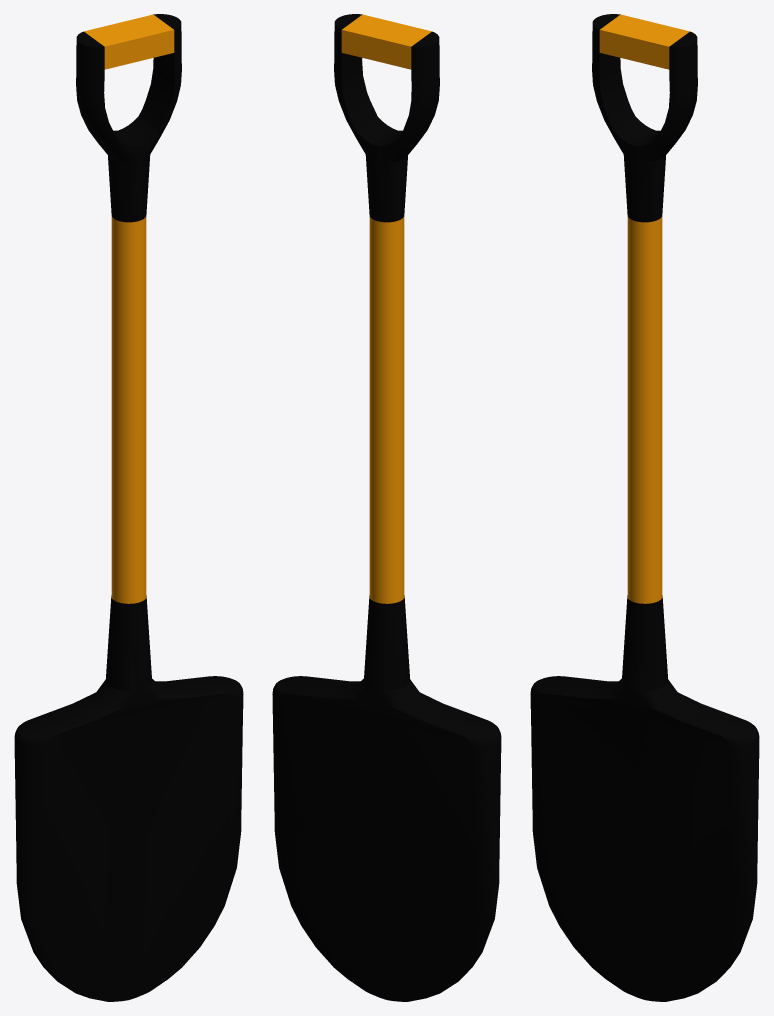
Rendered from shovel.obj.
The picture shows the model from 3 angles, left to right: view 1: azimuth 30°, elevation 25°; view 2: azimuth 150°, elevation 25°; view 3: azimuth 330°, elevation 25°; orthographic projection.
Visible parts, largest first — view 1: shovel; view 2: shovel; view 3: shovel.
Part boxes in pixels (x1,y1,x2,y2): shovel: (14,14,243,1001); shovel: (272,14,501,1001); shovel: (530,14,759,1001).
Size of the model in its own units: 0.232 by 0.9645 by 0.042.
